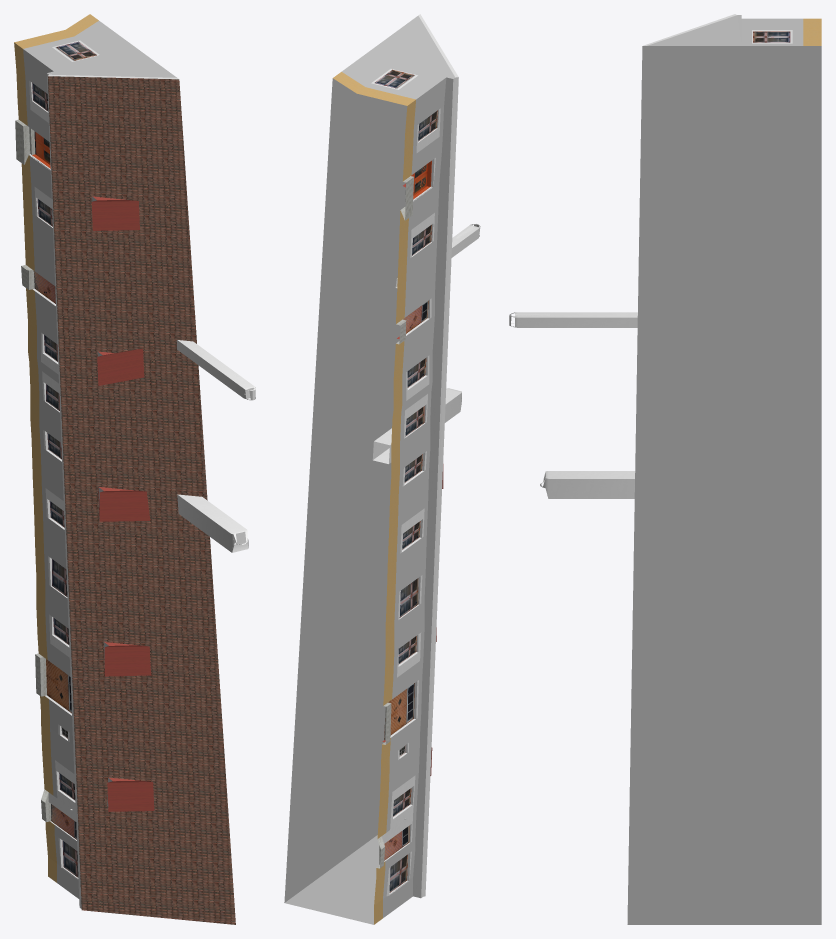
The model's file is Myyrivahe_52-origo.obj.
3 views of the same model, side by side, from view 1: azimuth 30°, elevation 25°; view 2: azimuth 150°, elevation 25°; view 3: azimuth 270°, elevation 25° (orthographic). The views are drawn at different scales.
Visible parts, largest first — view 1: myv_52; view 2: xxx, myv_52; view 3: xxx, myv_52.
Boxes of the visible parts, left/top/right/bottom form: myv_52: left=14, top=14, right=255, bottom=924; xxx: left=284, top=78, right=407, bottom=924; myv_52: left=333, top=14, right=480, bottom=924; xxx: left=627, top=46, right=821, bottom=924; myv_52: left=509, top=14, right=821, bottom=498.
Size of the model in its own units: 7.19 by 43.5 by 14.39.
